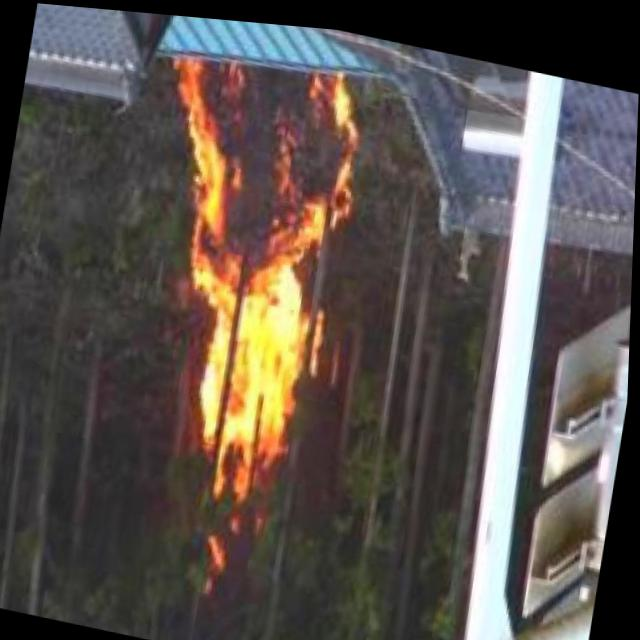Fire: (133, 38, 371, 514)
